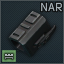B&T QD NAR mount for Aimpoint ACRO: (0, 0, 64, 64)
